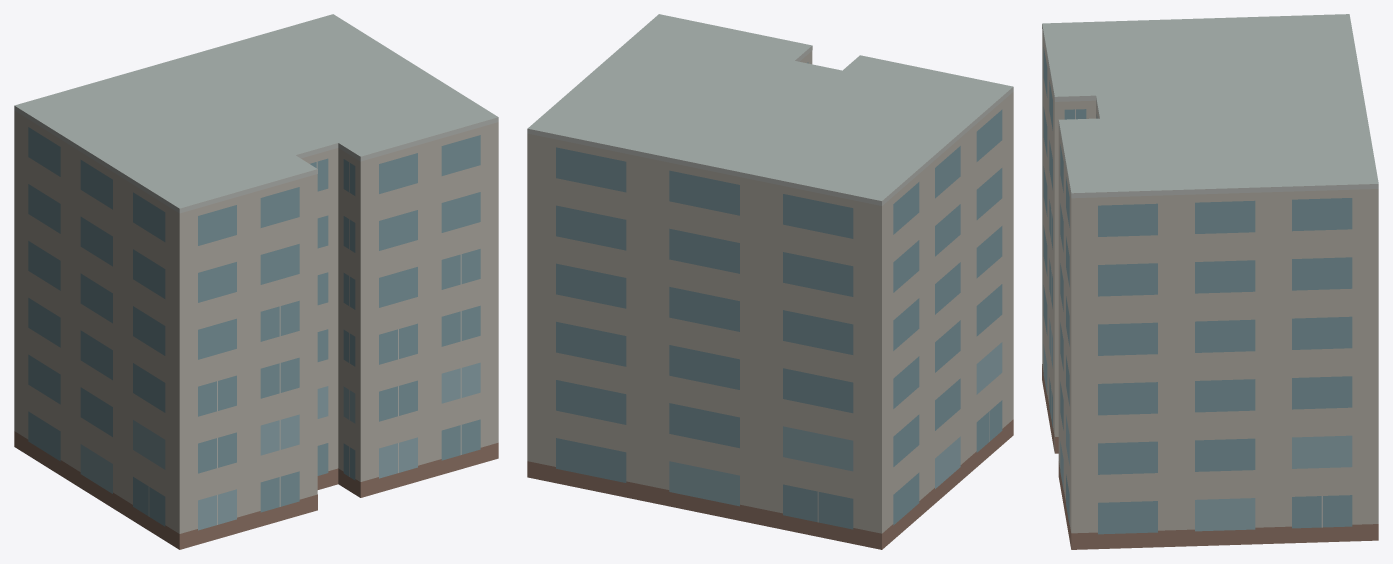
File: survey-upis-32757083.glb
3 renders of one model, left to right at view 1: azimuth 30°, elevation 25°; view 2: azimuth 150°, elevation 25°; view 3: azimuth 270°, elevation 25°, orthographic. The views are drawn at different scales.
Visible parts, largest first — view 1: survey-upis-32757083.tmp; view 2: survey-upis-32757083.tmp; view 3: survey-upis-32757083.tmp.
Part boxes in pixels (x1=…): survey-upis-32757083.tmp: x1=14, y1=14, x2=498, y2=549; survey-upis-32757083.tmp: x1=527, y1=14, x2=1013, y2=549; survey-upis-32757083.tmp: x1=1042, y1=14, x2=1378, y2=549.
Size of the model in its own units: 18.54 by 17.2 by 14.72.
